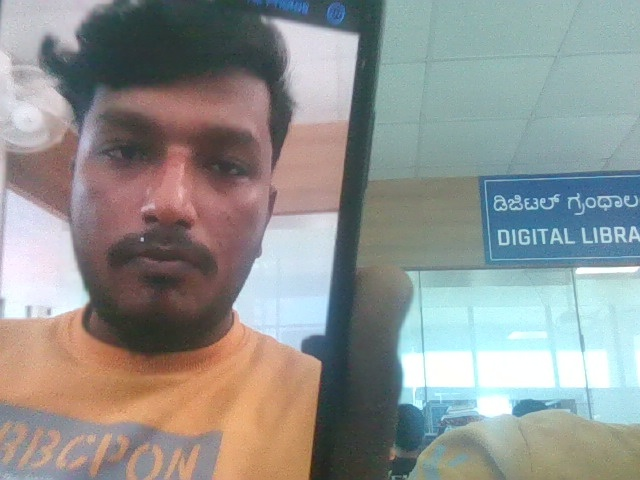fake: (36, 0, 310, 389)
